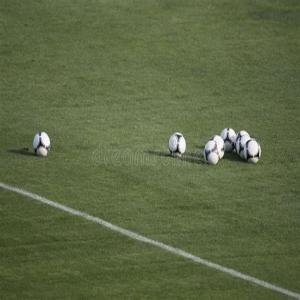Football: (244, 138, 266, 165), (31, 131, 53, 157), (204, 136, 220, 168), (220, 125, 237, 154), (169, 130, 185, 158), (236, 131, 252, 156)
